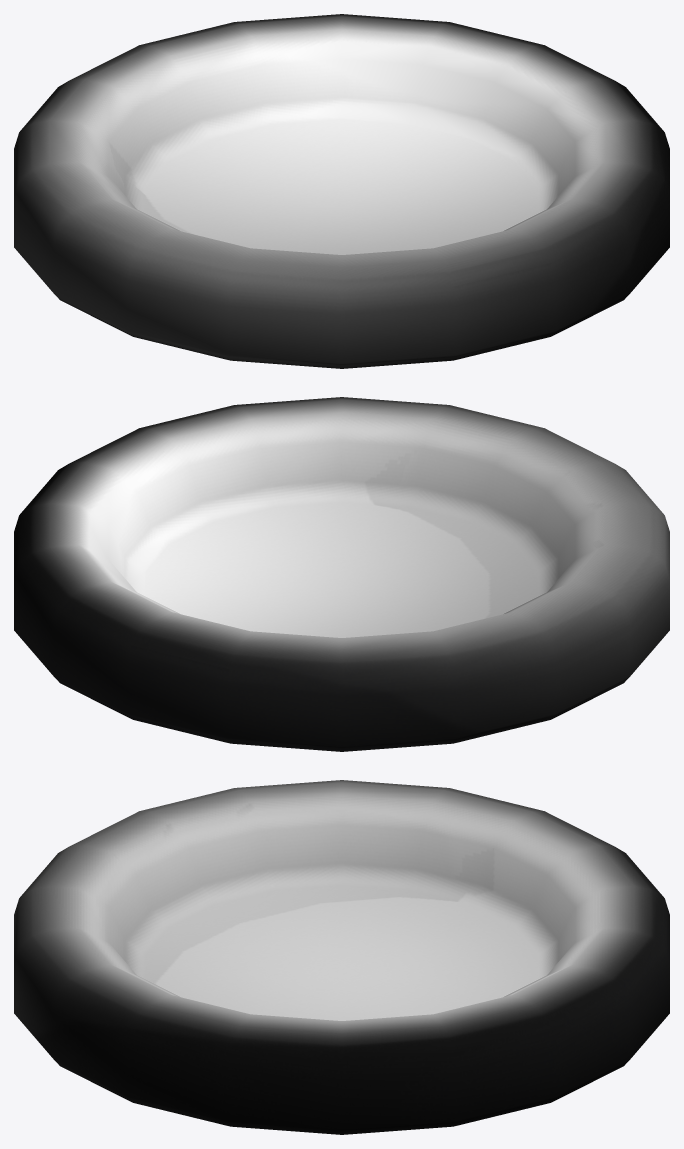
Rendered from gameButtonFrame.obj.
The picture shows the model from 3 angles, top to bottom: view 1: azimuth 30°, elevation 25°; view 2: azimuth 150°, elevation 25°; view 3: azimuth 270°, elevation 25°; orthographic projection.
Visible parts, largest first — view 1: gameButtonFrameOff; view 2: gameButtonFrameOff; view 3: gameButtonFrameOff.
Boxes of the visible parts, x1,y1,x2,y2 form: gameButtonFrameOff: (14,14,669,368); gameButtonFrameOff: (14,397,669,751); gameButtonFrameOff: (14,780,669,1134).
Bounding box in the file's own units: 56.48 × 8.34 × 55.62.
